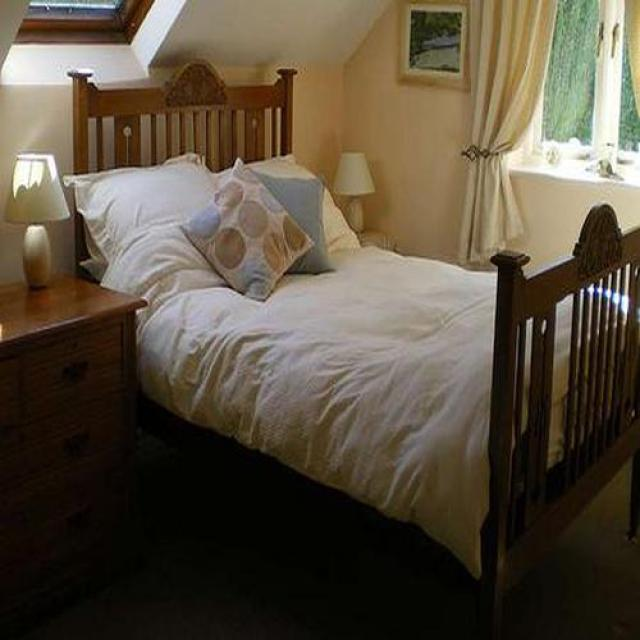bed: (67, 63, 640, 640)
table: (0, 274, 143, 640)
